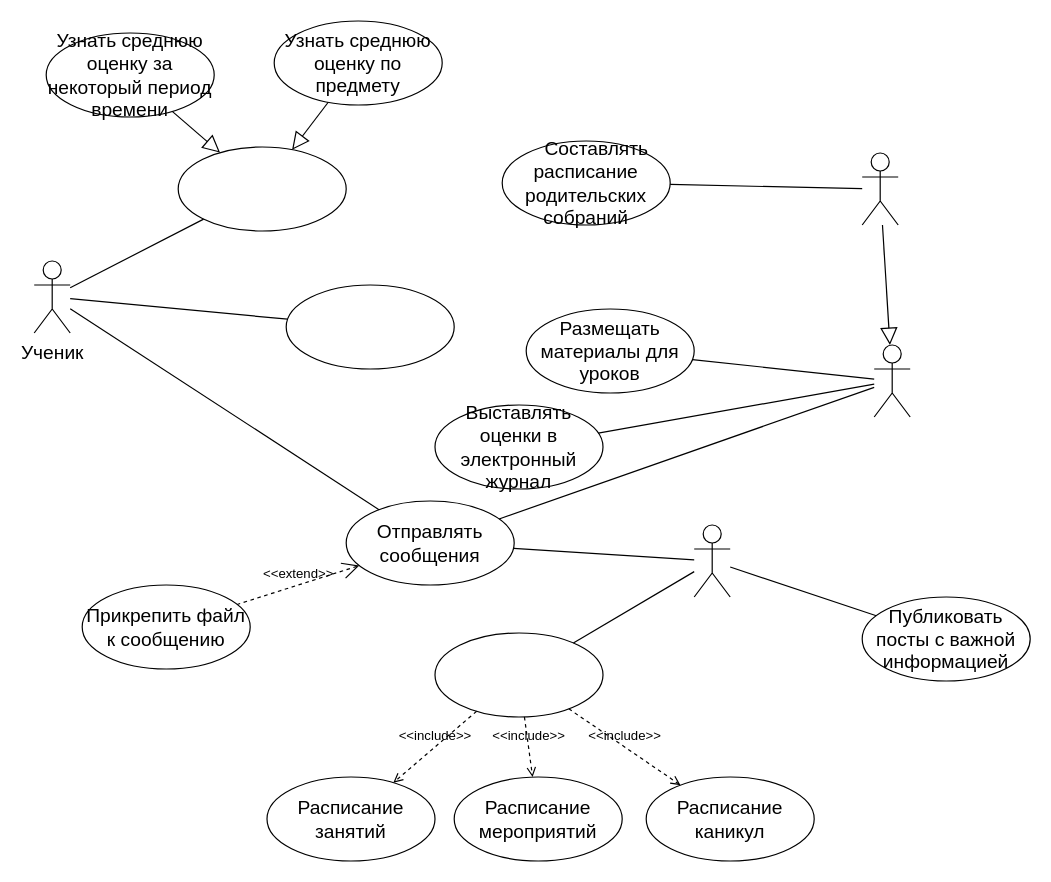
Some shapes in this 1051 by 882 pixel diagram are drawn without their labels. The shapes that lost their labels are listed below. From the top down, each one's box as (x1, y1, x2, y2) in pixels, then its label:
(177, 146, 346, 231): Просматривать свои оценки
(861, 152, 898, 225): Кл. руководитель
(285, 284, 454, 369): Смотреть расписание
(873, 344, 910, 417): Преподаватель
(693, 524, 730, 597): Зам. директора
(434, 632, 603, 717): Составлять расписание
